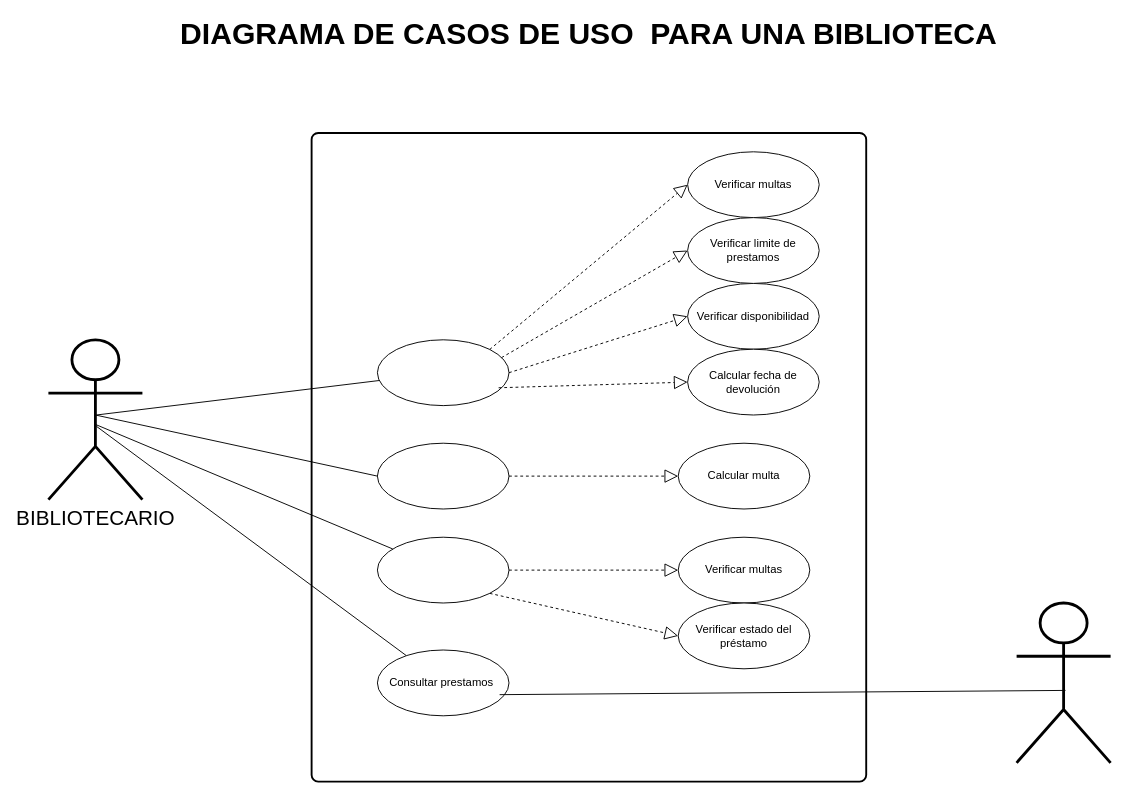
Image size: 1145x809. Some labels were removed from this diagram. Each missing label, with the centre of its shape:
"ESTUDIANTE" goes at point 1063,682.
"Registrar devolución" goes at point 442,475.
"Registrar préstamo" goes at point 442,372.
"Renovar préstamo" goes at point 442,569.
